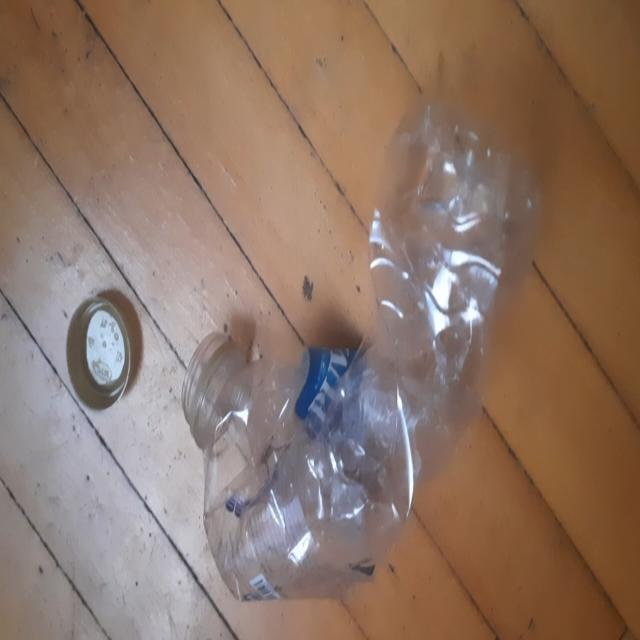Plastic: (183, 99, 541, 602)
